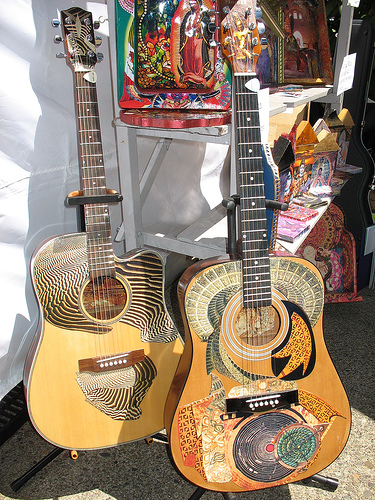guitar: (164, 3, 352, 493), (21, 3, 187, 453)
